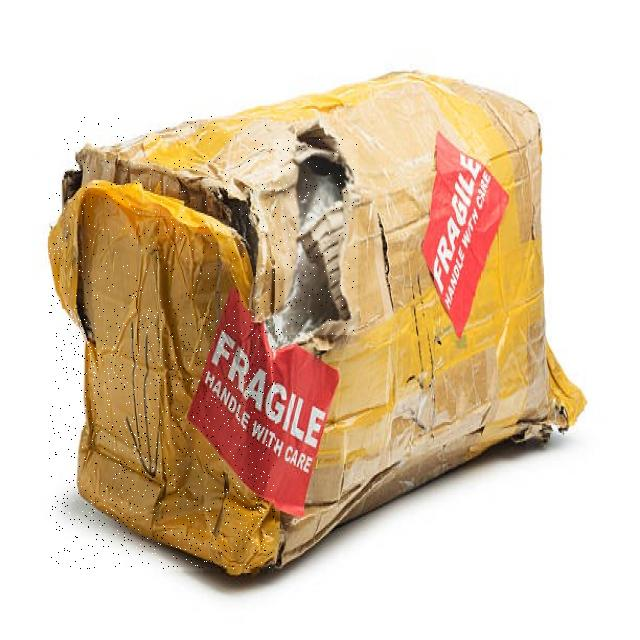leakage: (266, 139, 357, 335)
squeeze: (50, 190, 275, 570)
tear: (62, 117, 273, 309)
